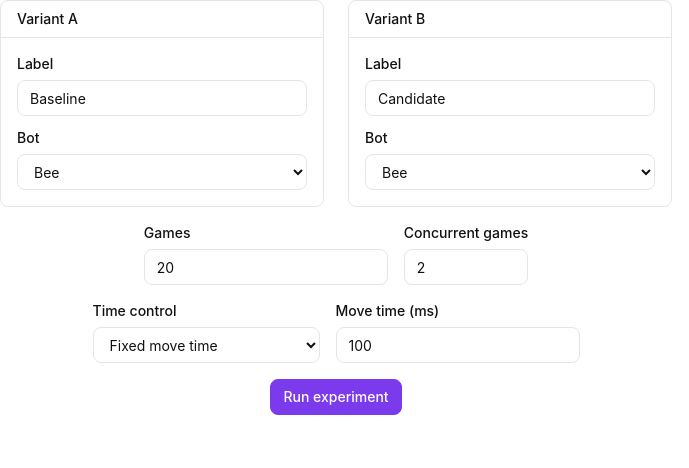
ExperimentSetup › requires complete color-swapped game pairs
Step 1. Replace the text in the number field labelled "Games" with "3" → (266, 267), box [144, 249, 388, 285]
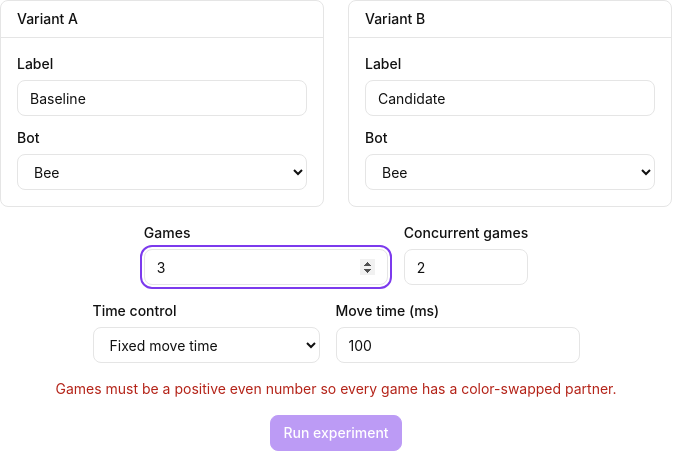
Check: the button "Run experiment" is disabled, box [270, 415, 402, 451]
Check: the text "positive even number" is shown, box [55, 380, 616, 397]
